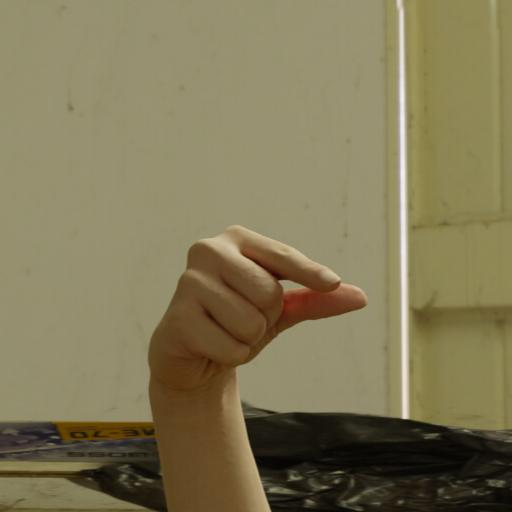G: (139, 216, 372, 386)
